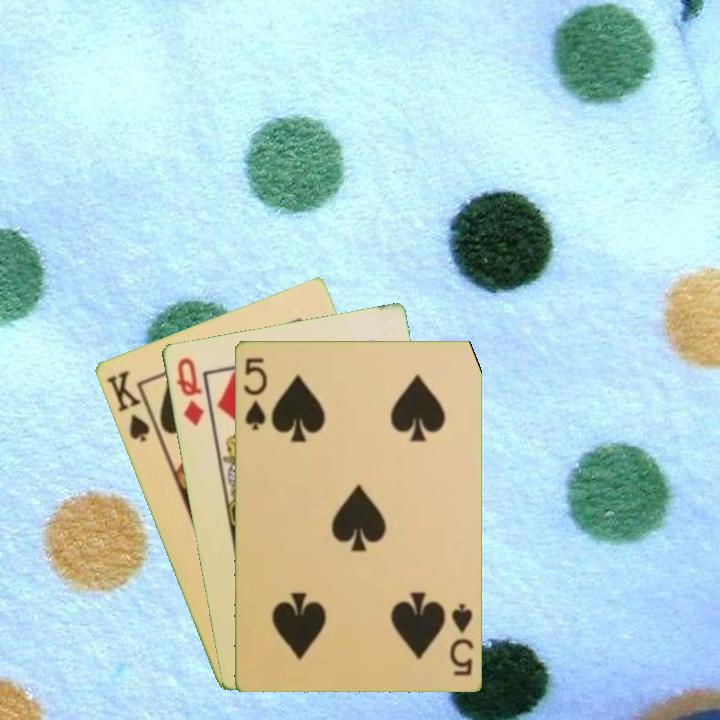5s: (240, 353, 270, 432), (446, 599, 476, 678)
Ks: (101, 366, 160, 445)
Qd: (172, 353, 206, 429)
